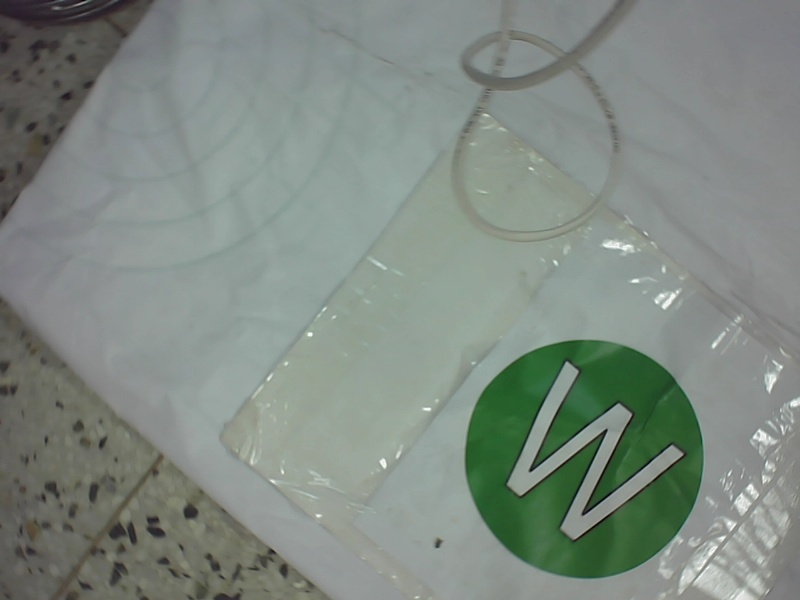areaB: (464, 336, 707, 587)
